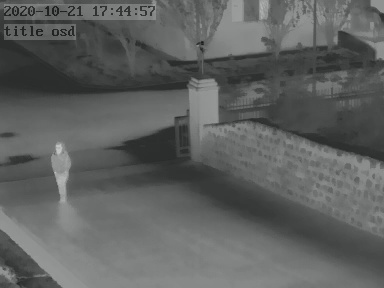person: (47, 136, 73, 206)
